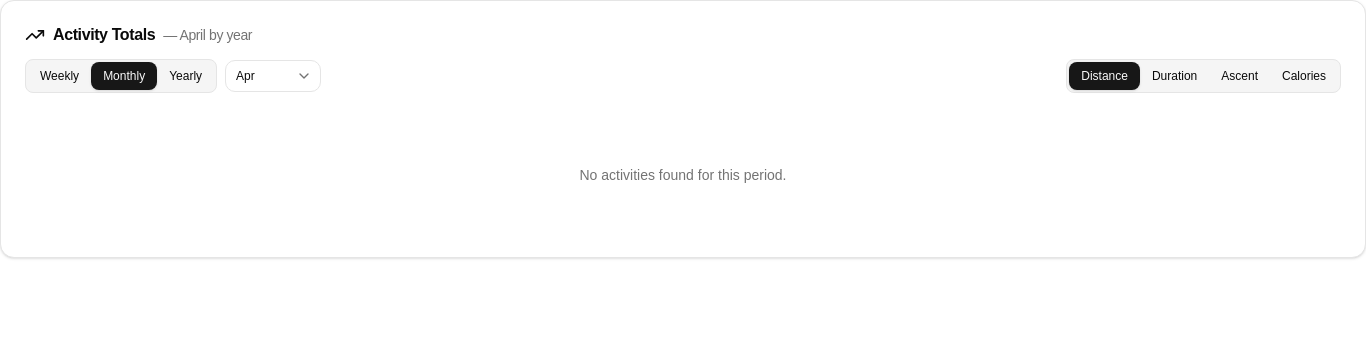
GarminActivityTotals › weekly mode renders query errors and retries the weekly requests
Click the radio button labelled "Weekly".
click(60, 76)  # box x1=28 y1=62 x2=91 y2=90
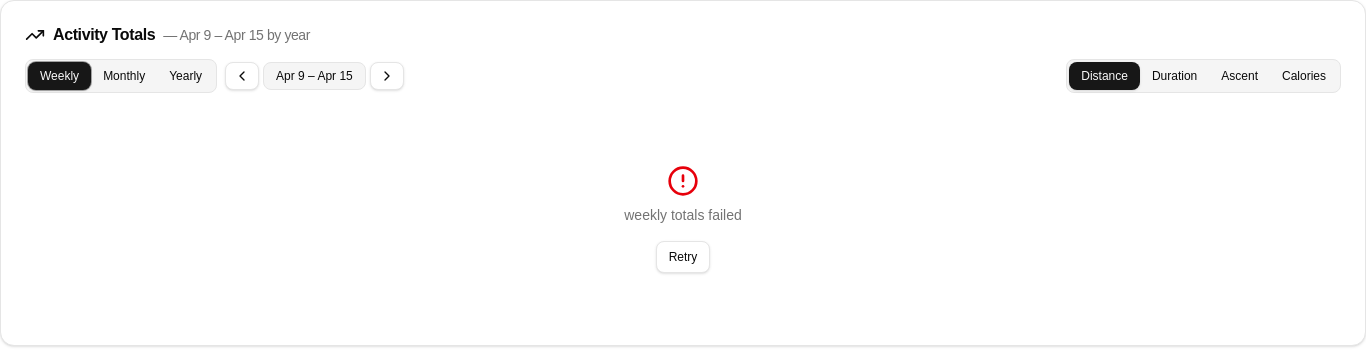
Check: the text "weekly totals failed" is shown, box x1=624 y1=205 x2=742 y2=225
Click the button "Retry".
click(683, 257)  # box x1=656 y1=241 x2=710 y2=273
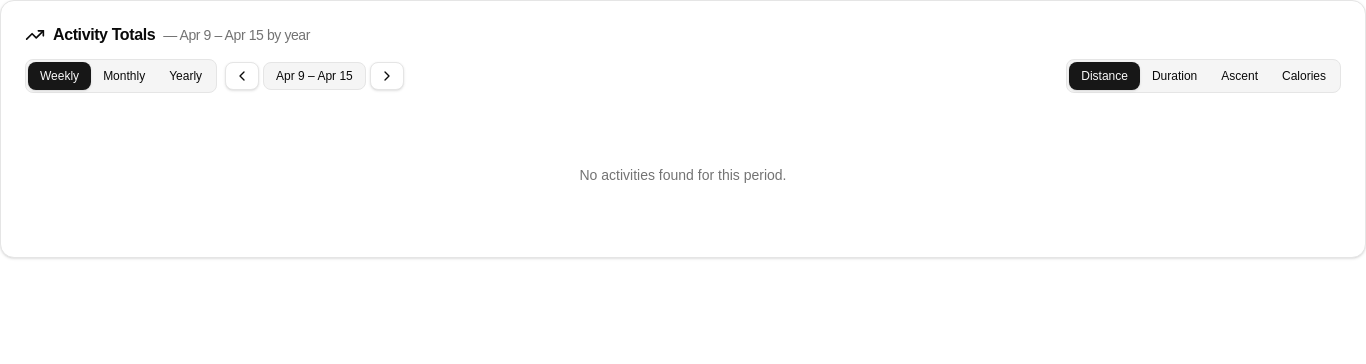
Check: the text "weekly totals failed" is gone
